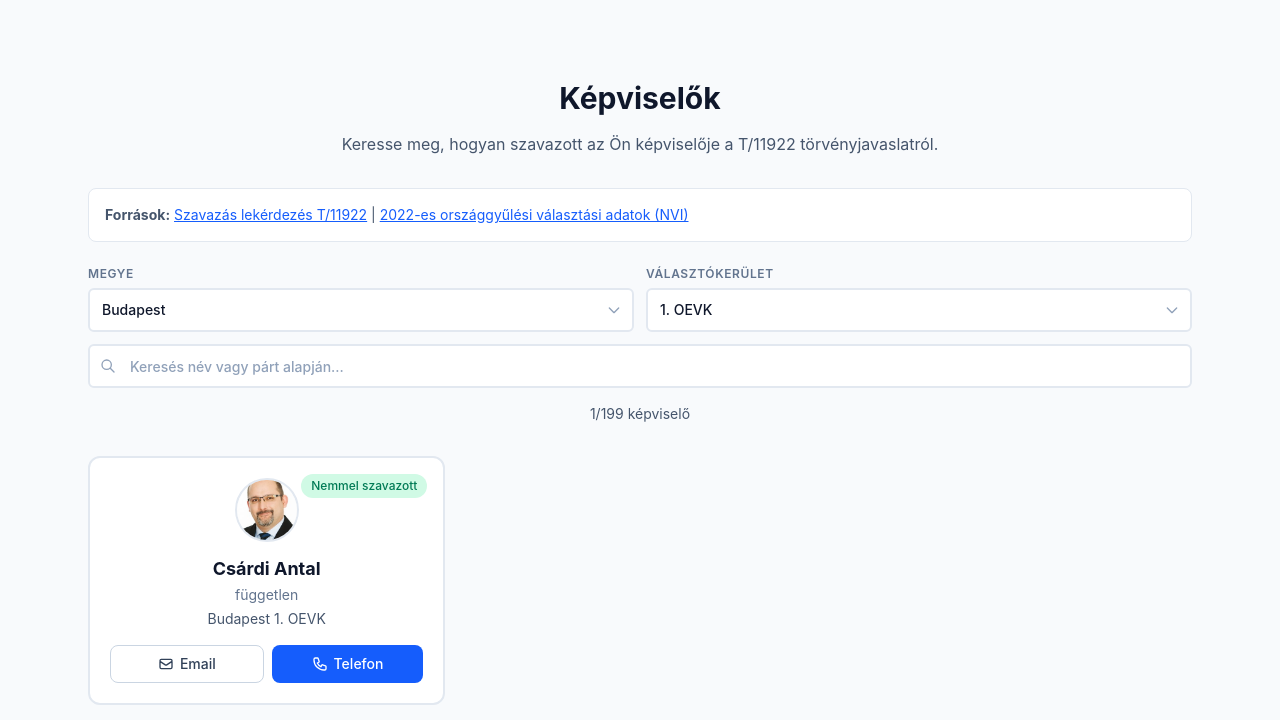
it: county and district updates are atomic during asynchronous navigation
Expected: the heading "Csárdi Antal" is shown, [213,558,321,579]
Select "Összes" in the dropdown labelled "Megye". click: (361, 310)
box: [88,288,634,332]
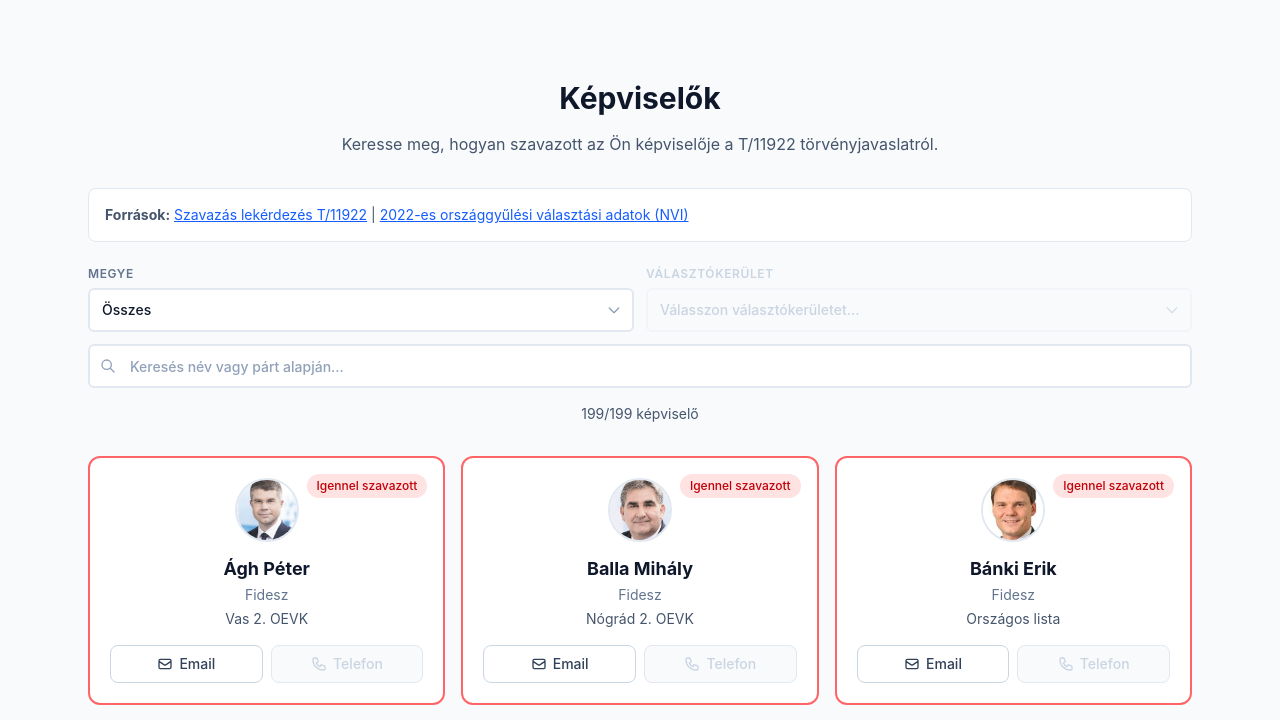
Expected: the number of pictures is 199
